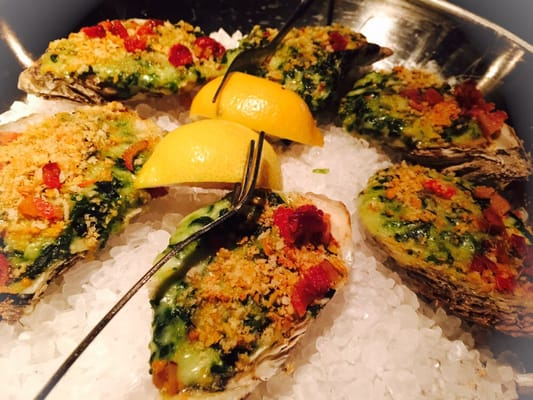sandwich: (0, 99, 168, 320)
